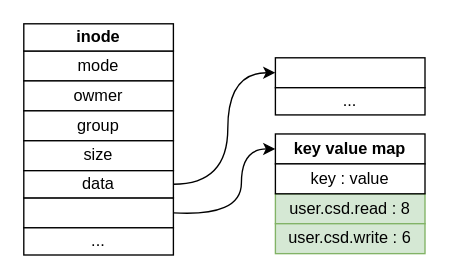
This 449x279 diagram has some shape labels left out. The shapes that lost their labels are listed below. From the top down, each one's centre as x and y in pixels, then its label:
point (349, 72): block
point (97, 212): extended attributes
